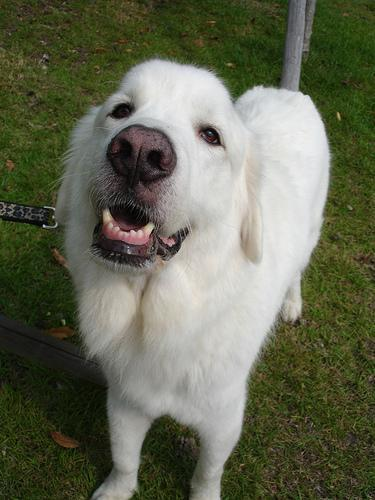Great_Pyrenees: (51, 57, 333, 498)
